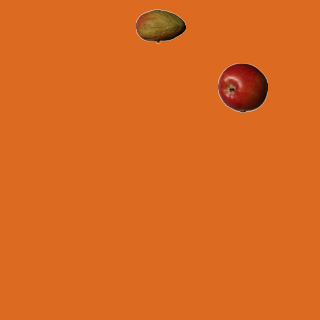Apple Braeburn: (217, 62, 267, 112)
Papaya: (135, 1, 185, 51)
